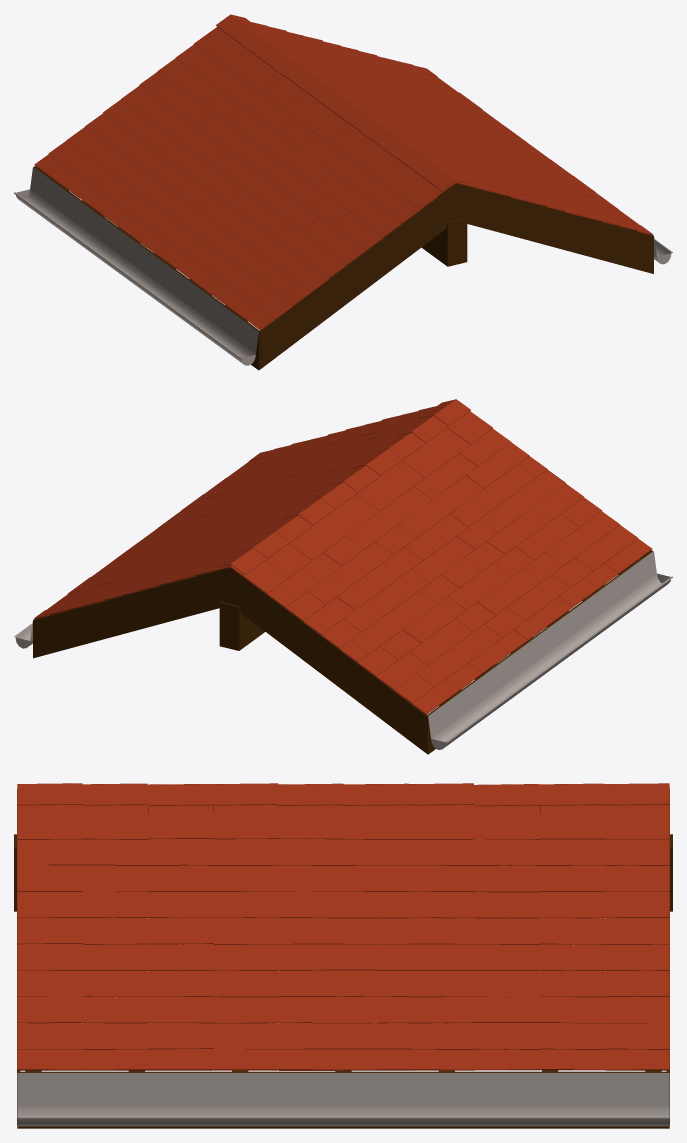
File: RedTileRoof.glb
The picture shows the model from 3 angles, top to bottom: view 1: azimuth 30°, elevation 25°; view 2: azimuth 150°, elevation 25°; view 3: azimuth 270°, elevation 25°; orthographic projection. The views are drawn at different scales.
Visible parts, largest first — view 1: rectangleTileRoof; view 2: rectangleTileRoof; view 3: rectangleTileRoof.
Part boxes in pixels (left/top/right/bottom): rectangleTileRoof: left=14, top=14, right=672, bottom=370; rectangleTileRoof: left=14, top=399, right=672, bottom=754; rectangleTileRoof: left=14, top=783, right=672, bottom=1128.
Size of what is drawn, in the model's own units: 4.43 by 1.39 by 4.04.
1 material, 1 textured.
